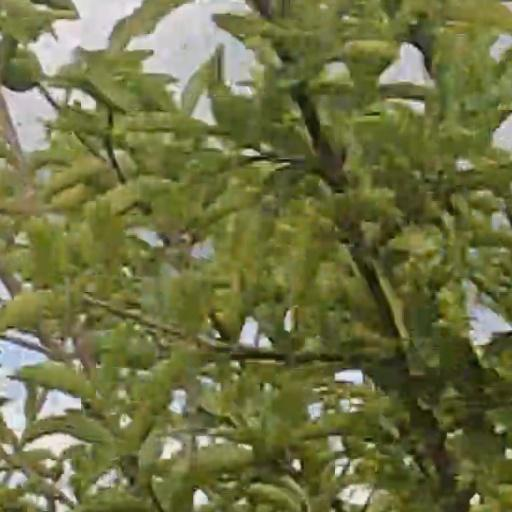acerola_verde: (8, 52, 40, 88)
